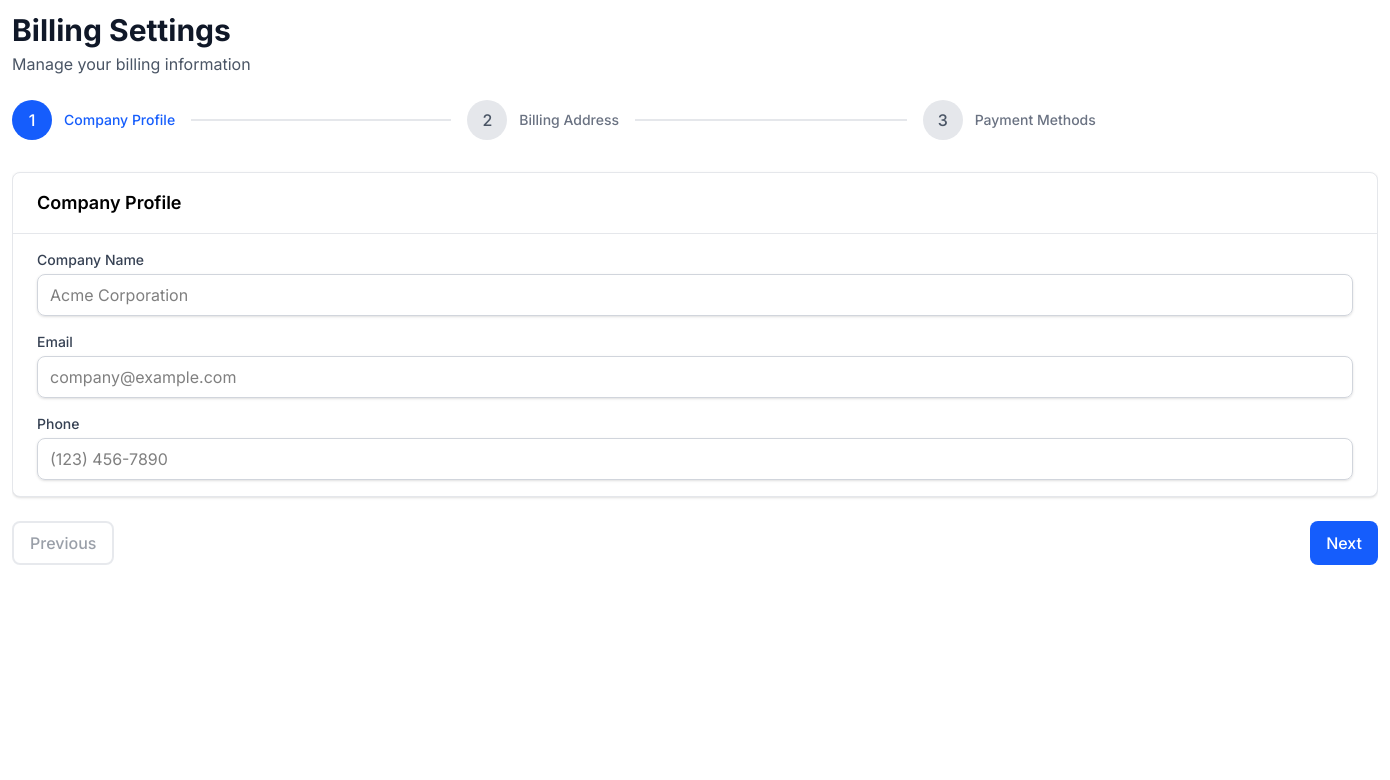
Test: BillingFormPage › Step 1 - Company Profile › shows validation error for invalid email
Type "invalid-email" into the field labelled "Email".
click(695, 377); type("invalid-email")  # box left=37, top=356, right=1353, bottom=398
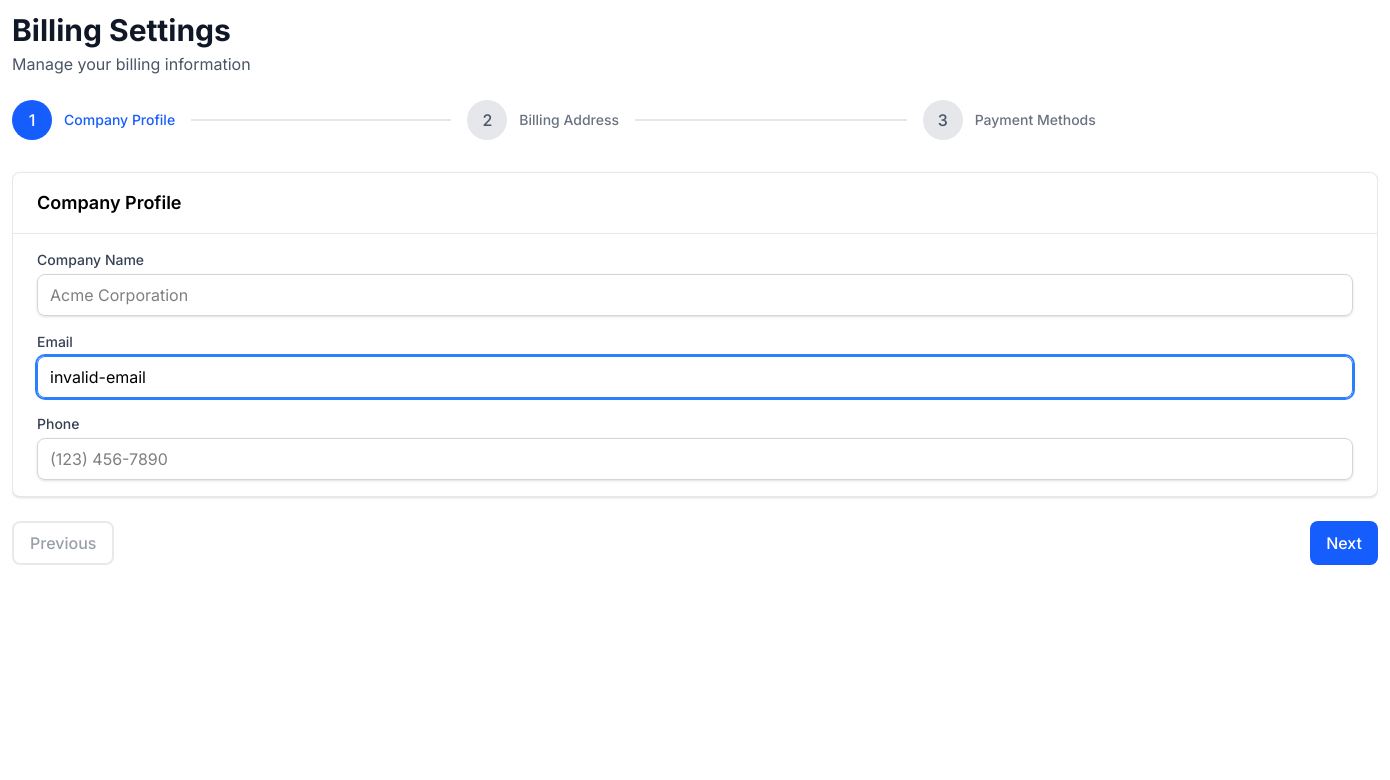
Click the button "Next".
click(1344, 543)  # box left=1310, top=521, right=1378, bottom=565
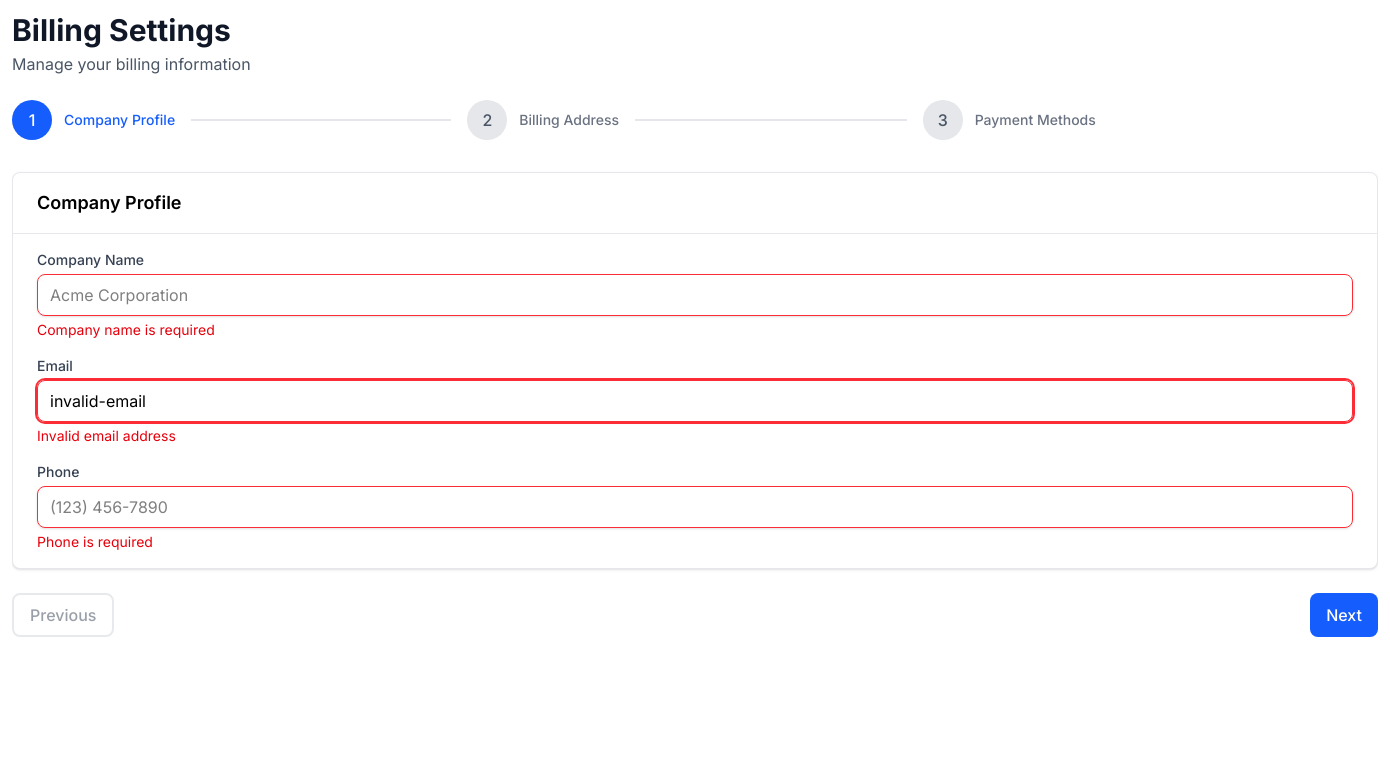
Expected: the text "Invalid email address" is shown, left=37, top=427, right=176, bottom=444
